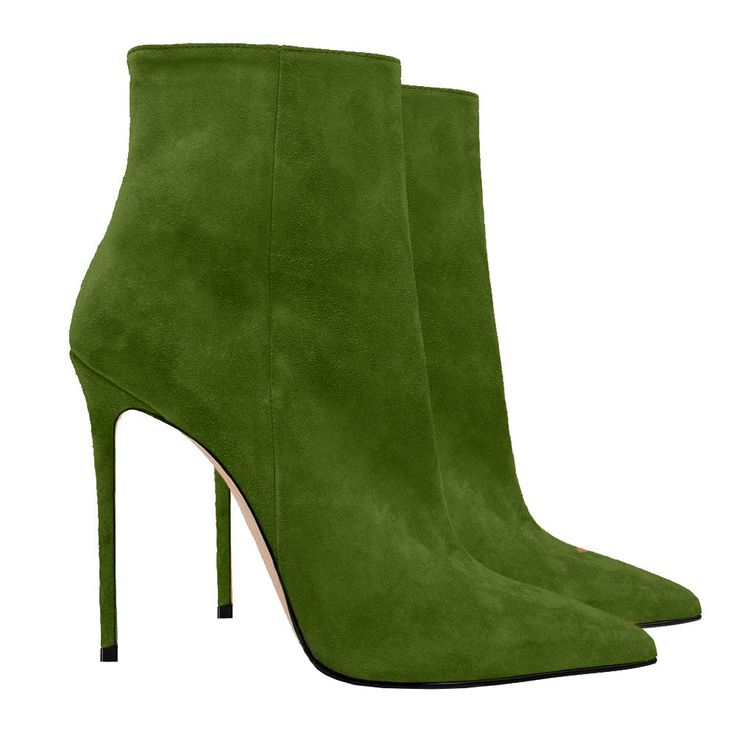gamuza: (68, 41, 702, 684)
